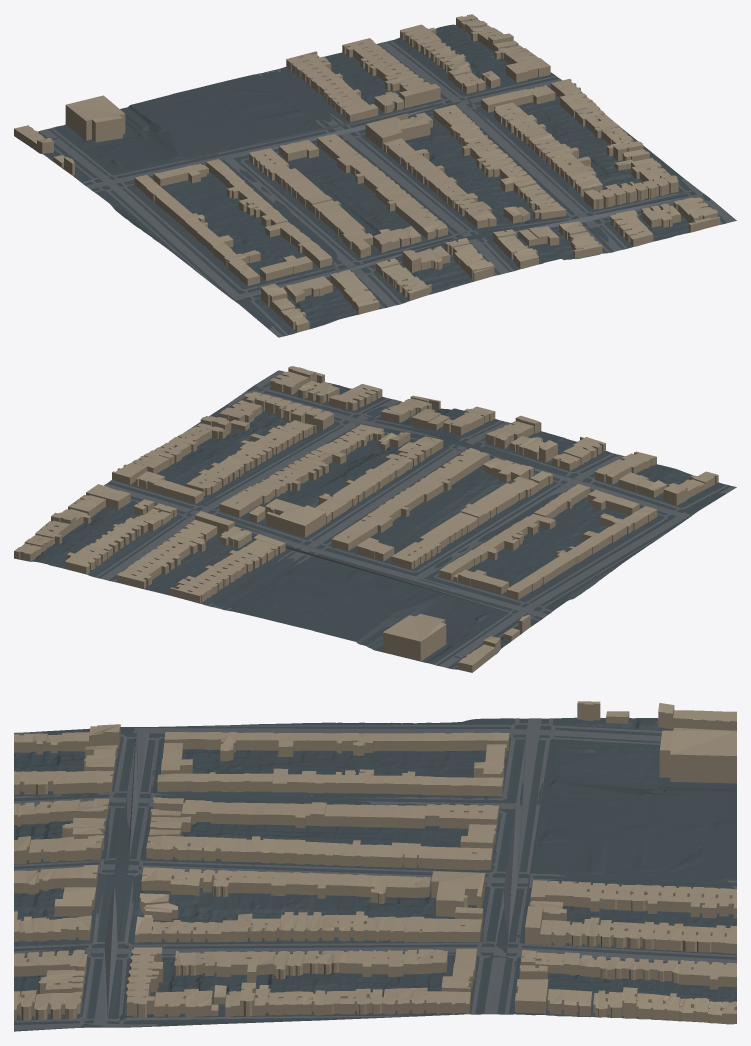
File: epsg26910-1421-10880.lod0.glb
3 views of the same model, one above another, from view 1: azimuth 30°, elevation 25°; view 2: azimuth 150°, elevation 25°; view 3: azimuth 270°, elevation 25° (orthographic). The views are drawn at different scales.
Visible parts, largest first — view 1: epsg26910-1421-10880-lod0; view 2: epsg26910-1421-10880-lod0; view 3: epsg26910-1421-10880-lod0.
Boxes of the visible parts, x1,y1,x2,y2 form: epsg26910-1421-10880-lod0: [14, 14, 736, 337]; epsg26910-1421-10880-lod0: [14, 366, 736, 672]; epsg26910-1421-10880-lod0: [14, 701, 736, 1031].
Bounding box in the file's own units: 384 × 22.73 × 384.
